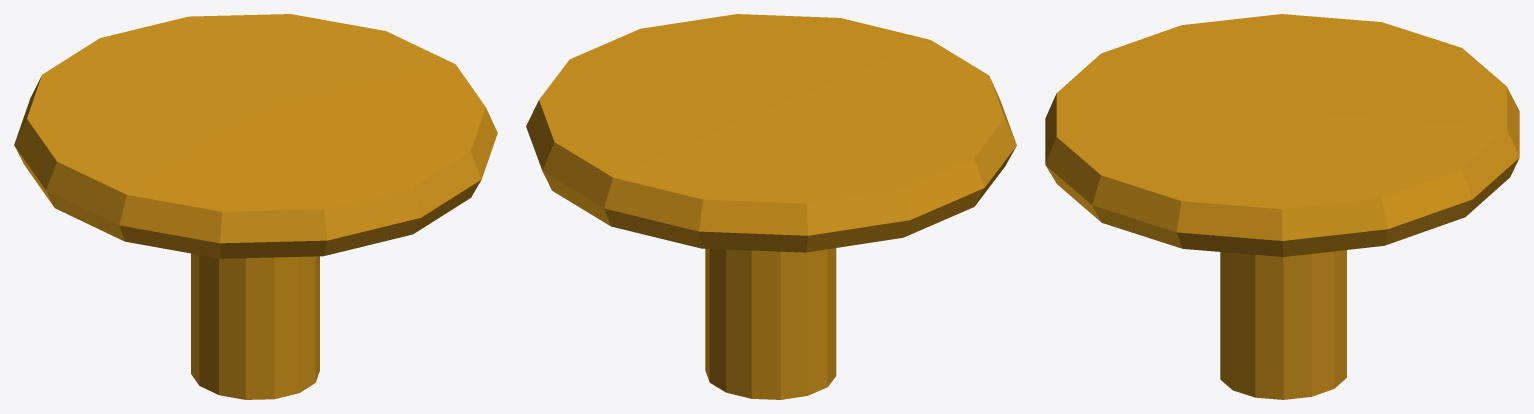
File: Mothership_02_Radar_Yellow.fbx
3 renders of one model, left to right at view 1: azimuth 30°, elevation 25°; view 2: azimuth 150°, elevation 25°; view 3: azimuth 270°, elevation 25°, orthographic.
Parts seen in each view (by area): view 1: Mothership_02_Radar_Yellow; view 2: Mothership_02_Radar_Yellow; view 3: Mothership_02_Radar_Yellow.
Part boxes in pixels (x1,y1,x2,y2): Mothership_02_Radar_Yellow: (14,14,497,399); Mothership_02_Radar_Yellow: (526,14,1016,399); Mothership_02_Radar_Yellow: (1045,14,1519,399).
Size of the model in its own units: 402 by 242 by 392.
1 material, 1 textured.
